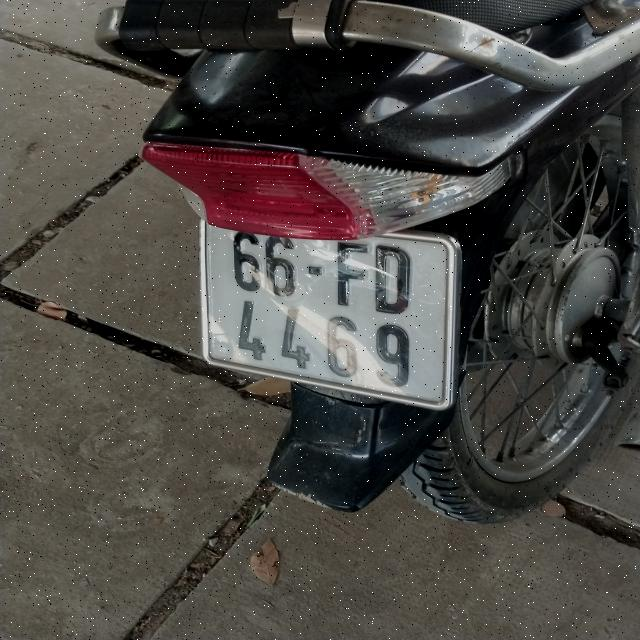4: (281, 300, 314, 370), (232, 300, 269, 360)
6: (229, 224, 263, 294), (264, 228, 298, 298), (324, 314, 359, 379)
9: (371, 322, 412, 388)
D: (374, 243, 410, 315)
F: (333, 239, 369, 307)
